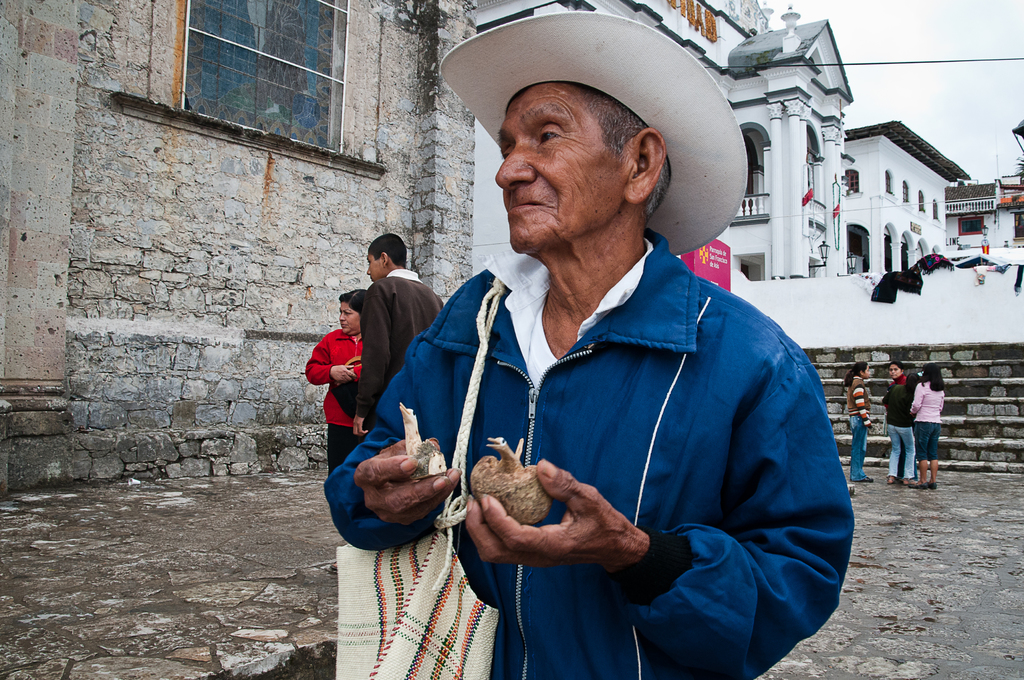Human_hand: (467, 458, 653, 579), (355, 432, 464, 530), (329, 364, 355, 385), (350, 416, 365, 439)
